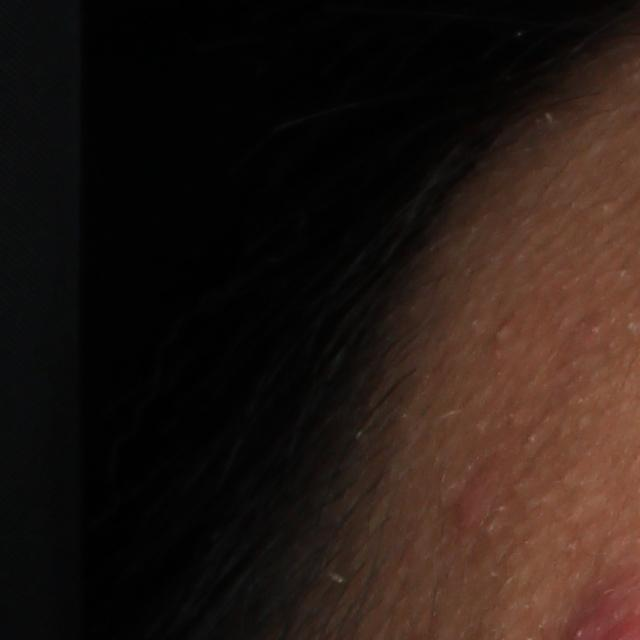papule: (453, 478, 490, 533)
